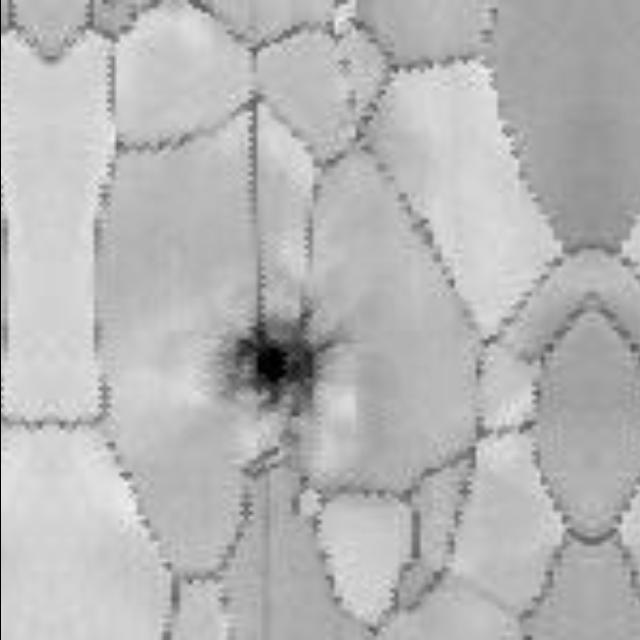good_void: (213, 291, 339, 428)
